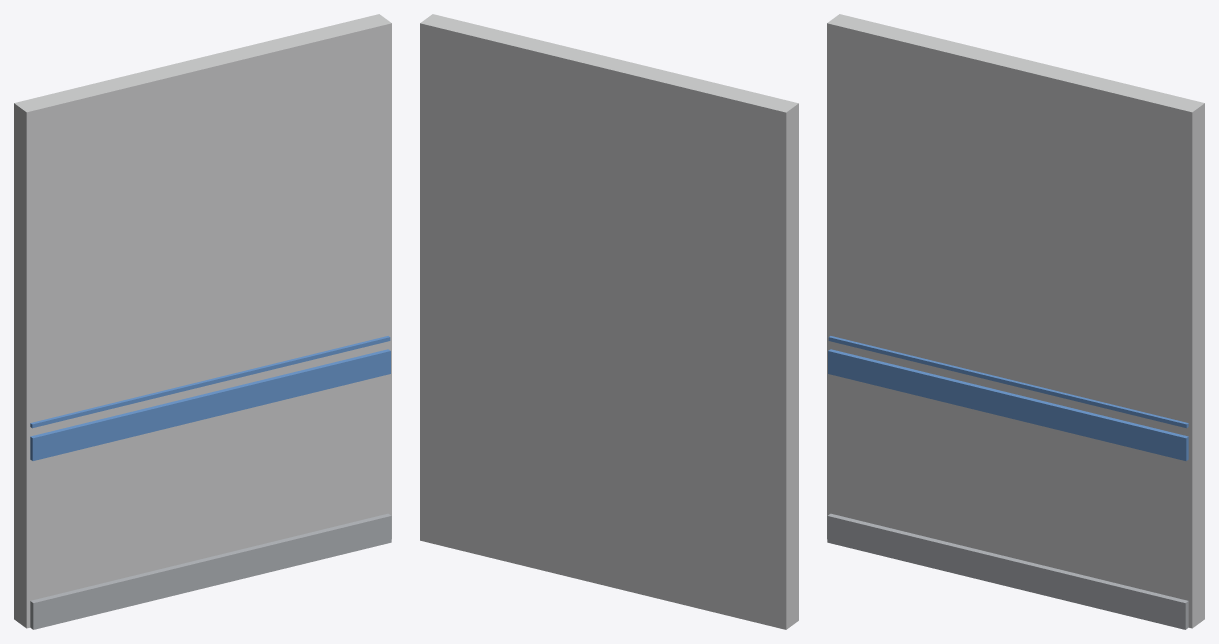
The picture shows the model from 3 angles, left to right: view 1: azimuth 30°, elevation 25°; view 2: azimuth 150°, elevation 25°; view 3: azimuth 330°, elevation 25°; orthographic projection.
Visible parts, largest first — view 1: consulting-room-wall-module; view 2: consulting-room-wall-module; view 3: consulting-room-wall-module.
Boxes of the visible parts, box(x1,y1,x2,y2) form: consulting-room-wall-module: box(14, 14, 391, 629); consulting-room-wall-module: box(420, 14, 798, 629); consulting-room-wall-module: box(827, 14, 1204, 629).
Bounding box in the file's own units: 2 × 2.7 × 0.1499.
